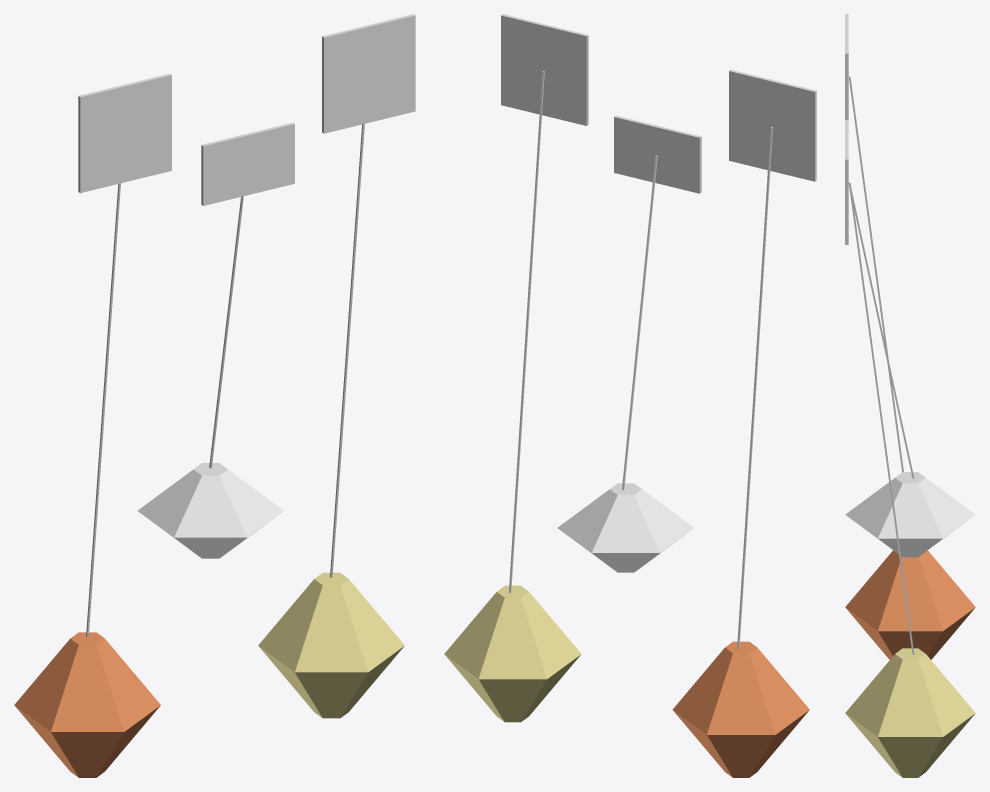
Rendered from ornament1.fbx.
3 views of the same model, side by side, from view 1: azimuth 30°, elevation 25°; view 2: azimuth 150°, elevation 25°; view 3: azimuth 270°, elevation 25° (orthographic). The views are drawn at different scales.
Visible parts, largest first — view 1: bathroom ornament; view 2: bathroom ornament; view 3: bathroom ornament.
Boxes of the visible parts, bbox=[...] form: bathroom ornament: bbox=[14, 14, 415, 777]; bathroom ornament: bbox=[444, 14, 816, 777]; bathroom ornament: bbox=[845, 14, 975, 777].
Bounding box in the file's own units: 102 × 195 × 36.49.
